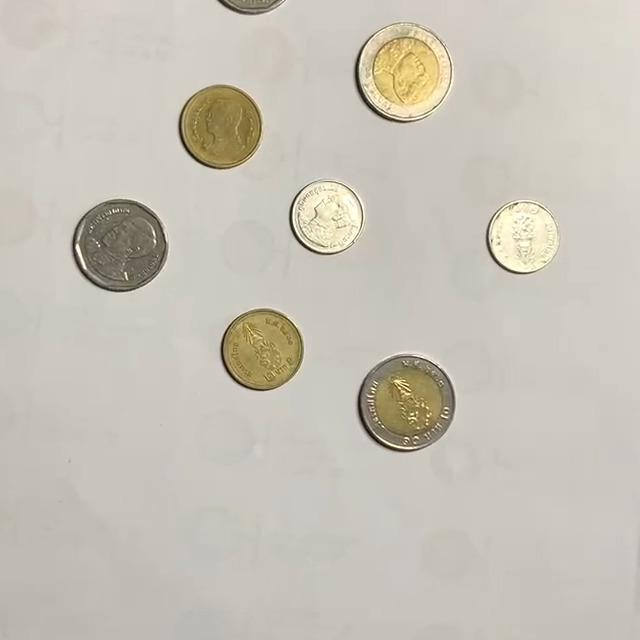1-baht: (291, 180, 367, 256), (488, 199, 564, 274)
10-baht: (357, 23, 455, 122), (359, 354, 458, 451)
2-baht: (179, 84, 264, 169), (222, 309, 305, 391)
5-baht: (72, 198, 169, 292)
